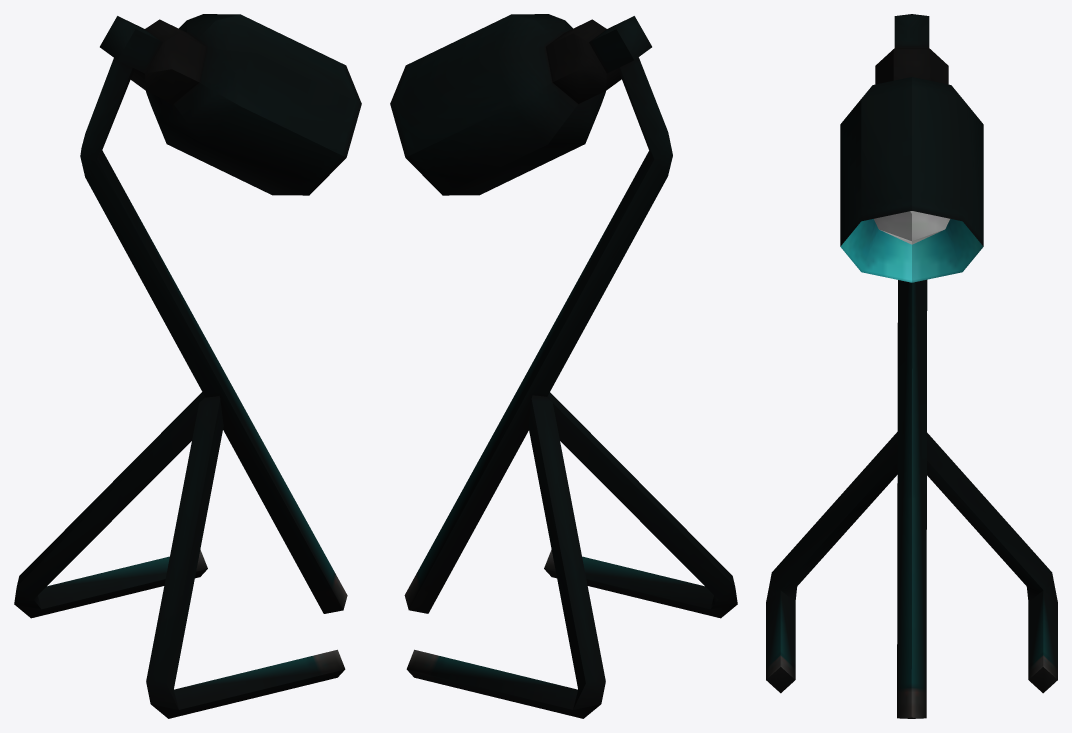
Rendered from 现代台灯.glb.
The picture shows the model from 3 angles, left to right: view 1: azimuth 30°, elevation 25°; view 2: azimuth 150°, elevation 25°; view 3: azimuth 270°, elevation 25°; orthographic projection. The views are drawn at different scales.
Visible parts, largest first — view 1: TinyLiving_TheModernDeskLamp_23; view 2: TinyLiving_TheModernDeskLamp_23; view 3: TinyLiving_TheModernDeskLamp_23.
Part boxes in pixels (box(x1,y1,x2,y2)): TinyLiving_TheModernDeskLamp_23: box(14, 14, 361, 718); TinyLiving_TheModernDeskLamp_23: box(390, 14, 737, 718); TinyLiving_TheModernDeskLamp_23: box(766, 14, 1057, 718).
Size of the model in its own units: 0.2454 by 0.5601 by 0.2426.
Materials: 1 (1 with a texture image).
